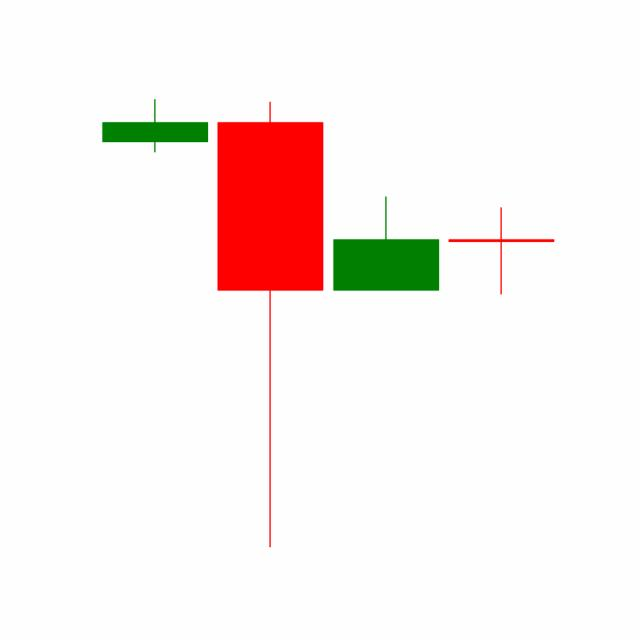Spinning Top: (443, 206, 559, 296)
